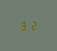three: (19, 20, 27, 31)
two: (28, 20, 36, 30)
